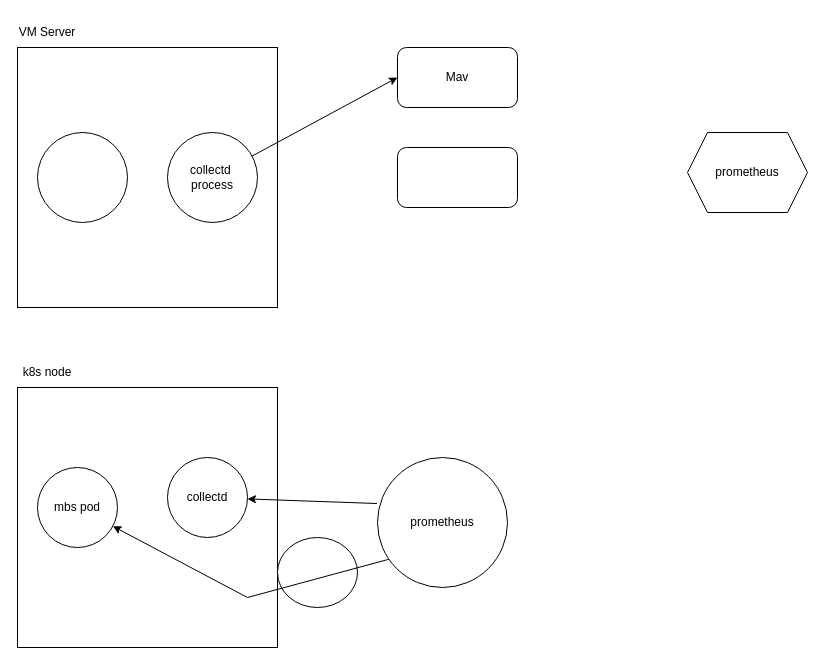
Image size: 825x665. Some labels were removed from this diagram. Each missing label, with the centre of its shape:
istio tls: pixel 317 572
mbs tomcat process: pixel 82 177
Telegraf: pixel 457 177
